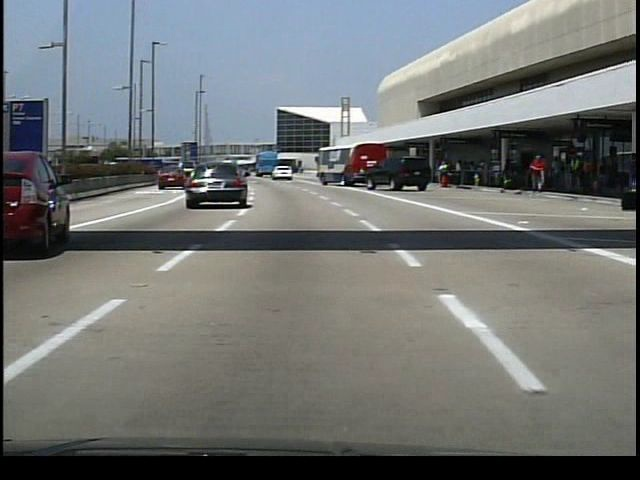person: (524, 152, 548, 195), (593, 156, 611, 193), (568, 151, 581, 191), (437, 158, 452, 188), (505, 156, 517, 186)
